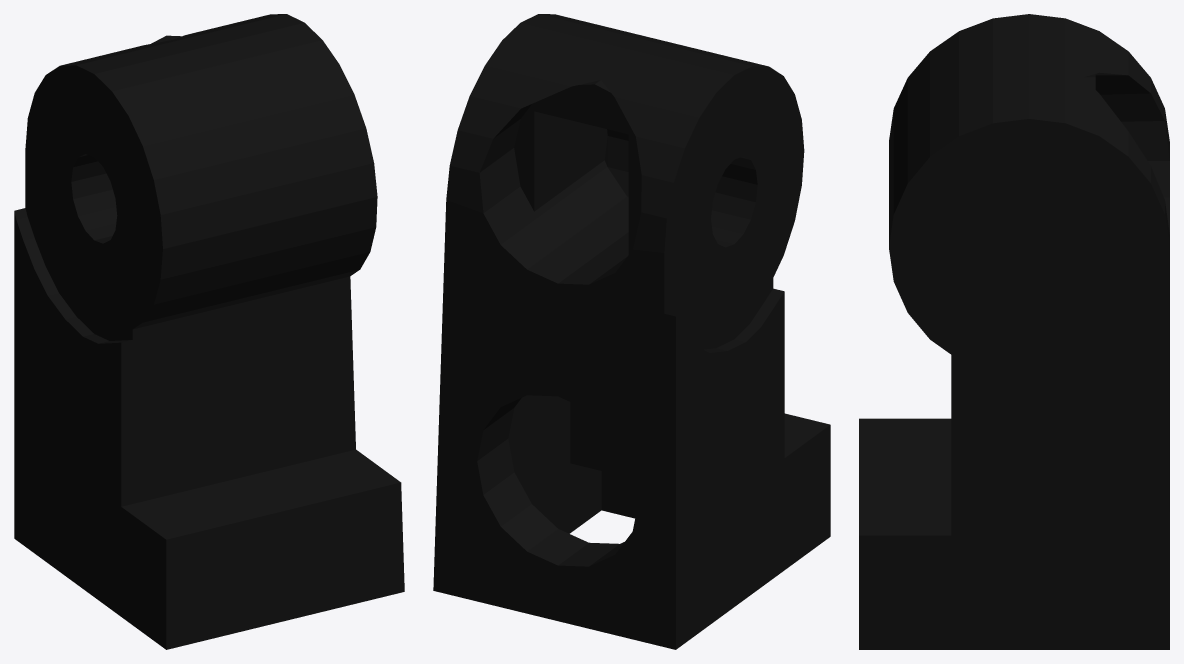
Rendered from BatmanPieI.obj.
The picture shows the model from 3 angles, left to right: view 1: azimuth 30°, elevation 25°; view 2: azimuth 150°, elevation 25°; view 3: azimuth 270°, elevation 25°; orthographic projection. The views are drawn at different scales.
Visible parts, largest first — view 1: Part_7; view 2: Part_7; view 3: Part_7.
Boxes of the visible parts, x1,y1,x2,y2 form: Part_7: (14,14,404,649); Part_7: (433,14,830,649); Part_7: (859,14,1169,649).
Bounding box in the file's own units: 7.2 × 14.78 × 7.96.
